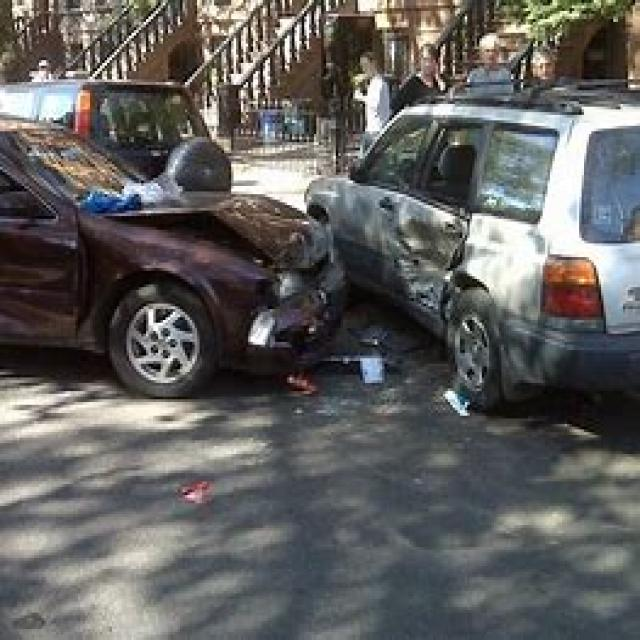Accident: (118, 108, 546, 410)
